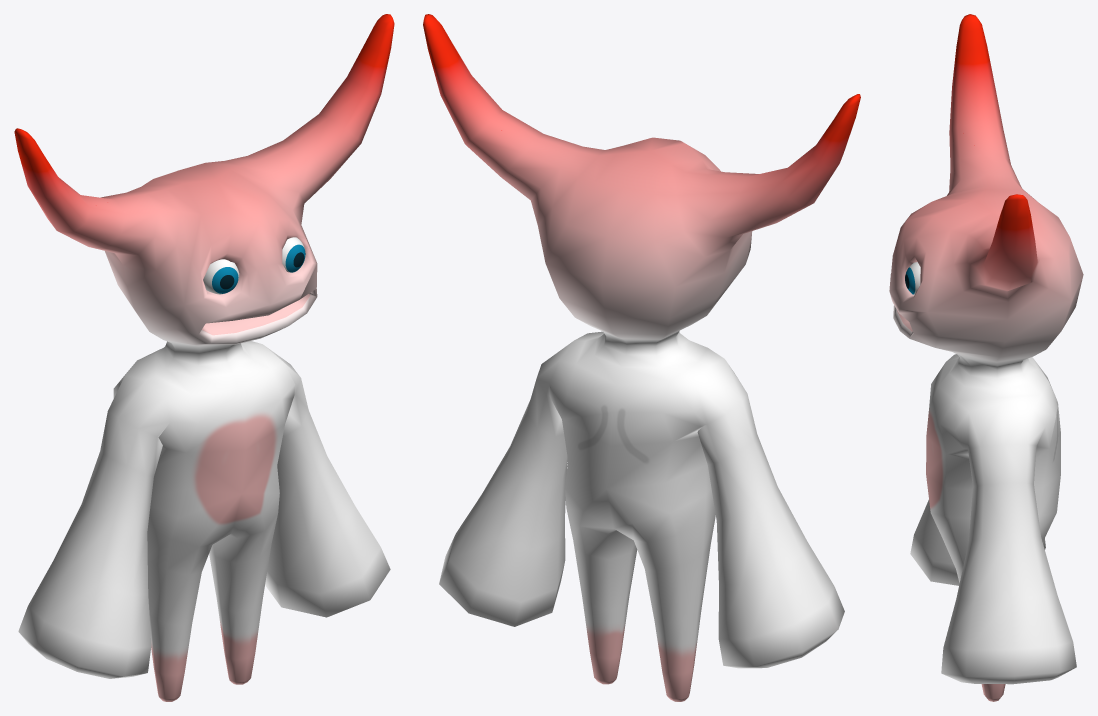
File: frame5.obj
The picture shows the model from 3 angles, left to right: view 1: azimuth 30°, elevation 25°; view 2: azimuth 150°, elevation 25°; view 3: azimuth 270°, elevation 25°; orthographic projection. The views are drawn at different scales.
Parts seen in each view (by area): view 1: Body, Right_Eye, Left_Eye; view 2: Body; view 3: Body, Left_Eye.
Boxes of the visible parts, x1,y1,x2,y2 form: Body: [14, 14, 394, 701]; Right_Eye: [203, 259, 239, 294]; Left_Eye: [282, 237, 305, 272]; Body: [423, 14, 860, 701]; Body: [889, 14, 1083, 701]; Left_Eye: [905, 262, 920, 295].
Size of the model in its own units: 12.93 by 19.21 by 5.83.
